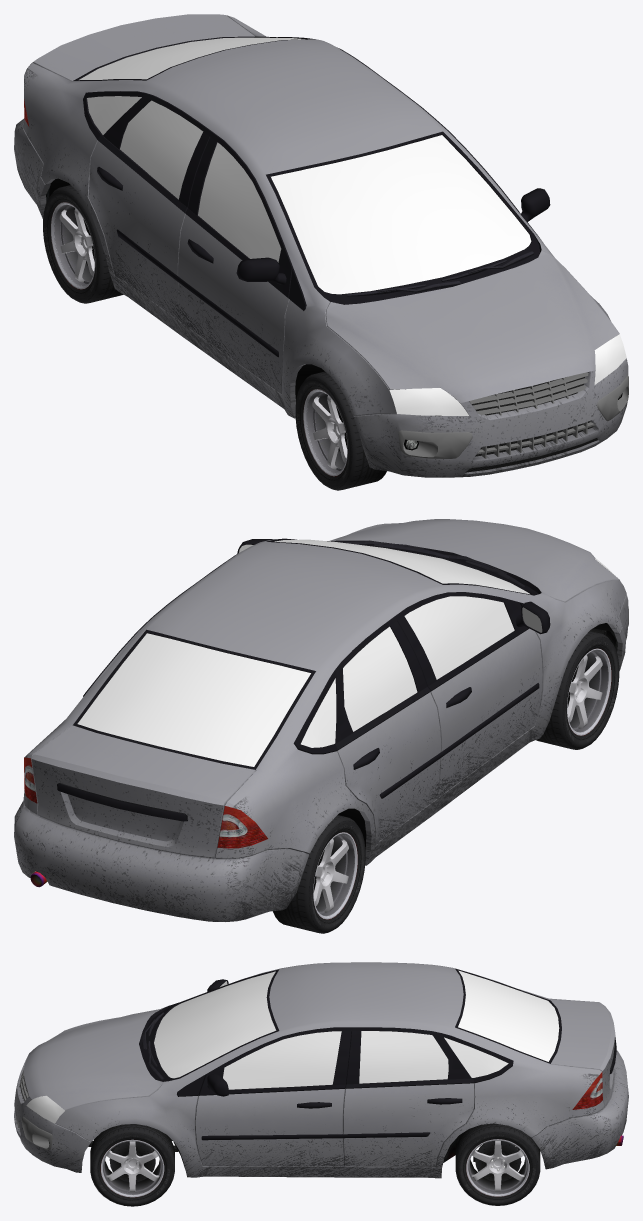
Rendered from Car 1.1.fbx.
3 views of the same model, one above another, from view 1: azimuth 30°, elevation 25°; view 2: azimuth 150°, elevation 25°; view 3: azimuth 270°, elevation 25° (orthographic). The views are drawn at different scales.
Parts seen in each view (by area): view 1: Tocus_Body, Tocus_Win_Front, Tocus_Hood_Front, Tocus_Bamper_Front, Tocus_Door_Right_Front, Tocus_Door_Right_Back, Tocus_Wheel_Right_Front, Tocus_Hood_Back, Tocus_Wheel_Right_Back, Tocus_Win_Door_Right_Front, Tocus_Win_Door_Right_Back, Tocus_Win_Back (+6 smaller); view 2: Tocus_Body, Tocus_Hood_Back, Tocus_Win_Back, Tocus_Bamper_Back, Tocus_Door_Right_Front, Tocus_Door_Right_Back, Tocus_Hood_Front, Tocus_Wheel_Right_Back, Tocus_Wheel_Right_Front, Tocus_Win_Door_Right_Front, Tocus_Win_Door_Right_Back, Tocus_Win_Front (+5 smaller); view 3: Tocus_Body, Tocus_Door_Left_Front, Tocus_Door_Left_Back, Tocus_Hood_Front, Tocus_Win_Front, Tocus_Wheel_Left_Font, Tocus_Wheel_Left_Back, Tocus_Win_Back, Tocus_Win_Door_Left_Front, Tocus_Bamper_Back, Tocus_Win_Door_Left_Back, Tocus_Hood_Back (+6 smaller).
Part boxes in pixels (x1,y1,x2,y2): Tocus_Body: [23, 15, 619, 418]; Tocus_Win_Front: [271, 135, 531, 294]; Tocus_Hood_Front: [325, 250, 619, 403]; Tocus_Bamper_Front: [353, 358, 628, 477]; Tocus_Door_Right_Front: [177, 132, 293, 393]; Tocus_Door_Right_Back: [88, 93, 212, 321]; Tocus_Wheel_Right_Front: [295, 371, 386, 490]; Tocus_Hood_Back: [32, 14, 254, 81]; Tocus_Wheel_Right_Back: [43, 185, 123, 303]; Tocus_Win_Door_Right_Front: [198, 142, 281, 262]; Tocus_Win_Door_Right_Back: [120, 100, 203, 199]; Tocus_Win_Back: [79, 37, 304, 80]; Tocus_Body: [23, 538, 626, 865]; Tocus_Hood_Back: [31, 725, 255, 858]; Tocus_Win_Back: [77, 633, 310, 766]; Tocus_Bamper_Back: [14, 800, 308, 921]; Tocus_Door_Right_Front: [395, 592, 550, 798]; Tocus_Door_Right_Back: [334, 616, 441, 845]; Tocus_Hood_Front: [330, 519, 619, 602]; Tocus_Wheel_Right_Back: [273, 815, 365, 933]; Tocus_Wheel_Right_Front: [536, 631, 619, 749]; Tocus_Win_Door_Right_Front: [404, 596, 514, 679]; Tocus_Win_Door_Right_Back: [343, 626, 417, 731]; Tocus_Win_Front: [274, 539, 530, 594]; Tocus_Body: [55, 962, 604, 1178]; Tocus_Door_Left_Front: [195, 1027, 351, 1166]; Tocus_Door_Left_Back: [343, 1027, 474, 1167]; Tocus_Hood_Front: [23, 1008, 162, 1110]; Tocus_Win_Front: [154, 971, 276, 1078]; Tocus_Wheel_Left_Font: [90, 1124, 174, 1206]; Tocus_Wheel_Left_Back: [455, 1123, 540, 1205]; Tocus_Win_Back: [458, 970, 559, 1061]; Tocus_Win_Door_Left_Front: [223, 1031, 341, 1089]; Tocus_Bamper_Back: [532, 1050, 628, 1169]; Tocus_Win_Door_Left_Back: [359, 1031, 448, 1083]; Tocus_Hood_Back: [551, 1000, 616, 1106].
Size of the model in its own units: 185 by 139 by 445.
